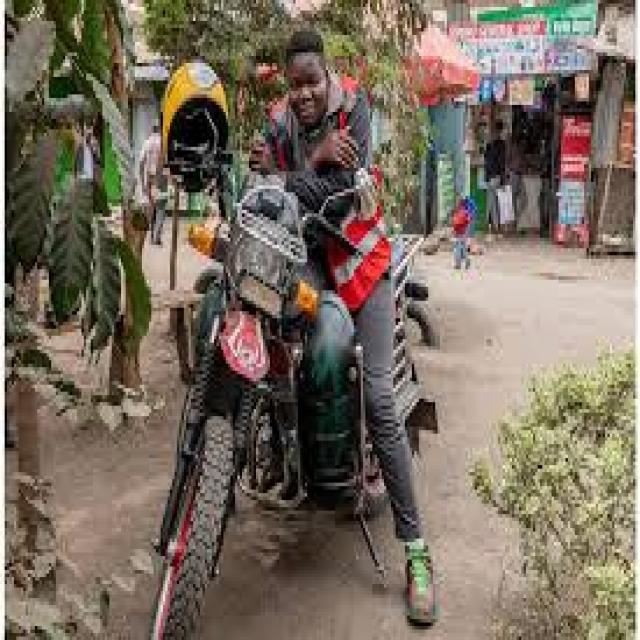bodaboda: (84, 40, 464, 640)
